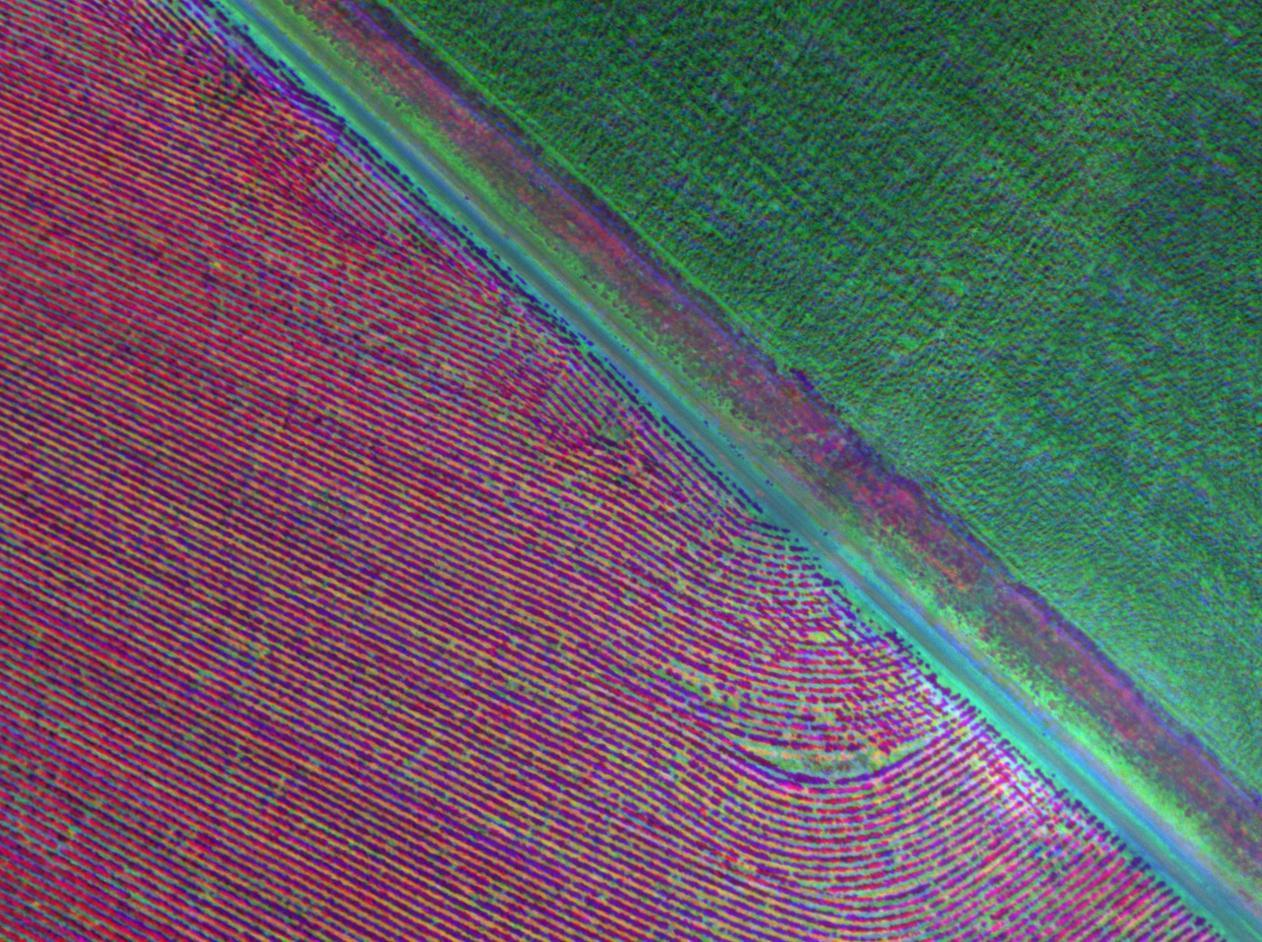dc: (721, 718, 916, 812), (8, 788, 115, 878), (651, 860, 730, 942), (636, 633, 717, 702)
